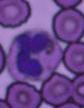N: (6, 30, 62, 81)
